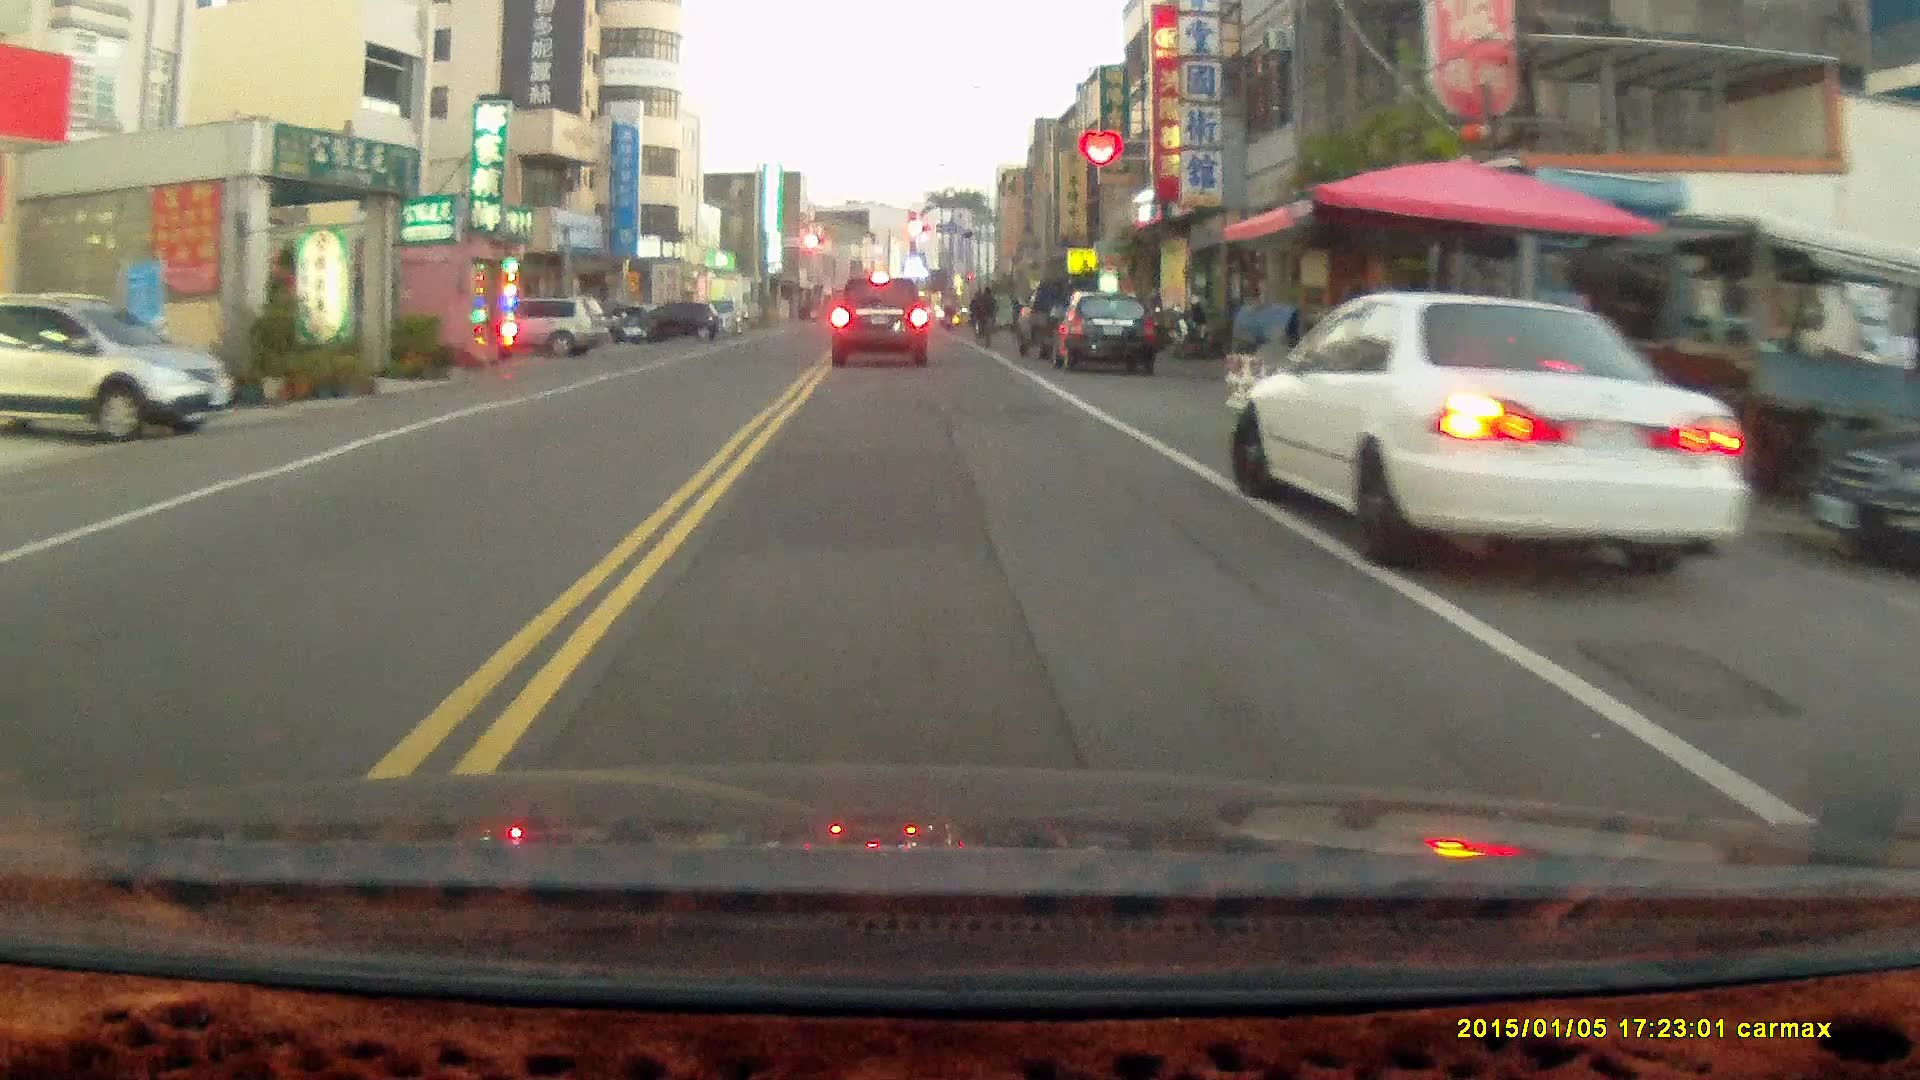rider: (970, 281, 1000, 347)
vehicle: (1234, 287, 1758, 576), (1, 288, 239, 443), (1803, 401, 1918, 575), (1050, 292, 1166, 377), (831, 274, 931, 370), (478, 297, 610, 359)
